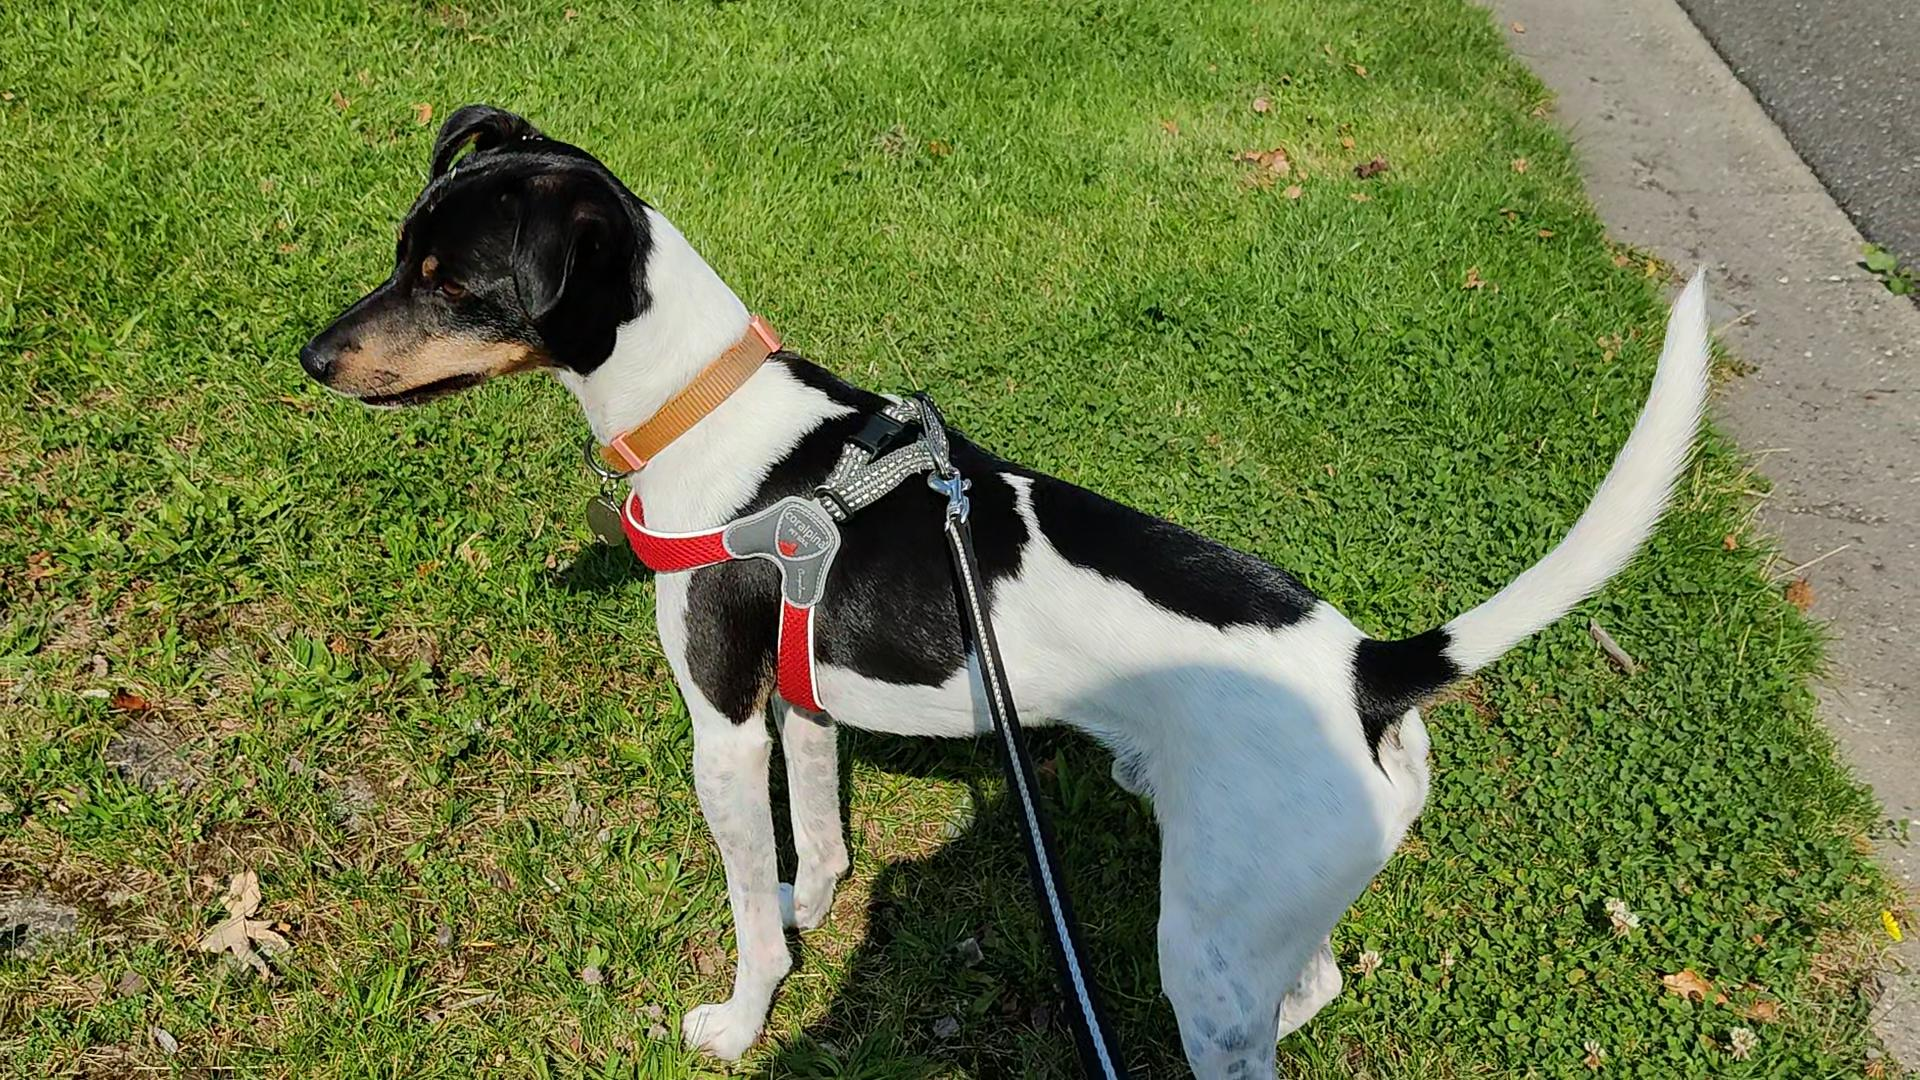Dog: (291, 100, 1714, 1079)
